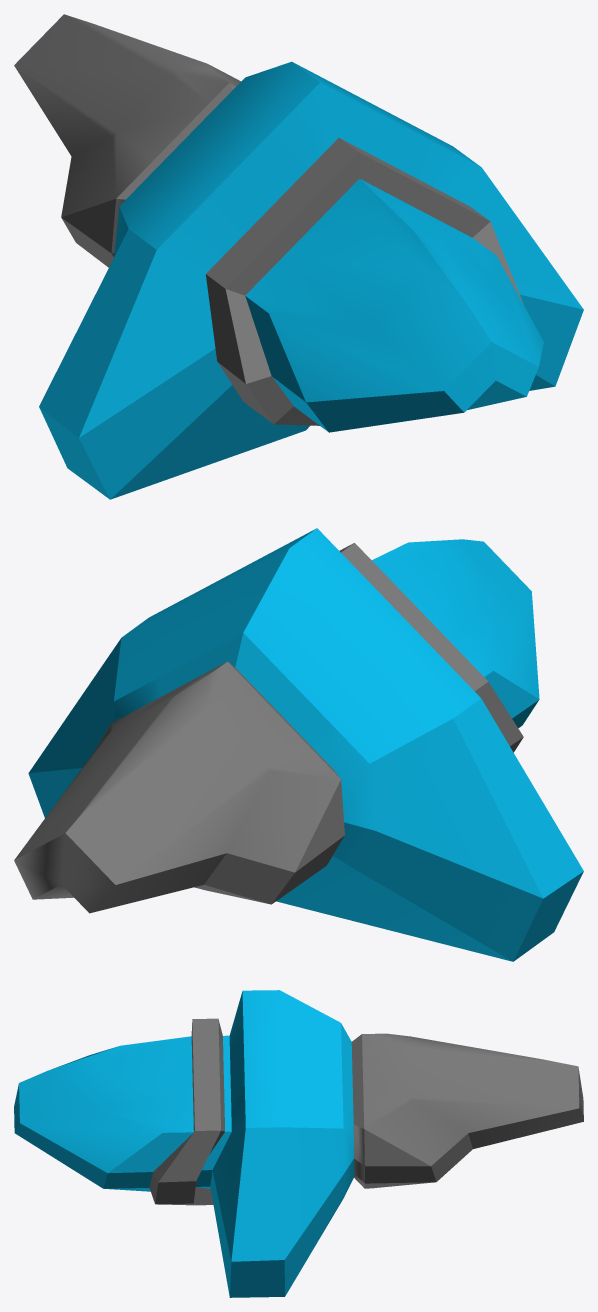
The model's file is _1Ship_PIece6.fbx.
The picture shows the model from 3 angles, top to bottom: view 1: azimuth 30°, elevation 25°; view 2: azimuth 150°, elevation 25°; view 3: azimuth 270°, elevation 25°; orthographic projection. The views are drawn at different scales.
Visible parts, largest first — view 1: Ship_PIece6; view 2: Ship_PIece6; view 3: Ship_PIece6.
Boxes of the visible parts, <box> form: Ship_PIece6: <box>14,14,583,499</box>; Ship_PIece6: <box>14,528,583,961</box>; Ship_PIece6: <box>14,990,583,1297</box>.
Bounding box in the file's own units: 391 × 261 × 572.
